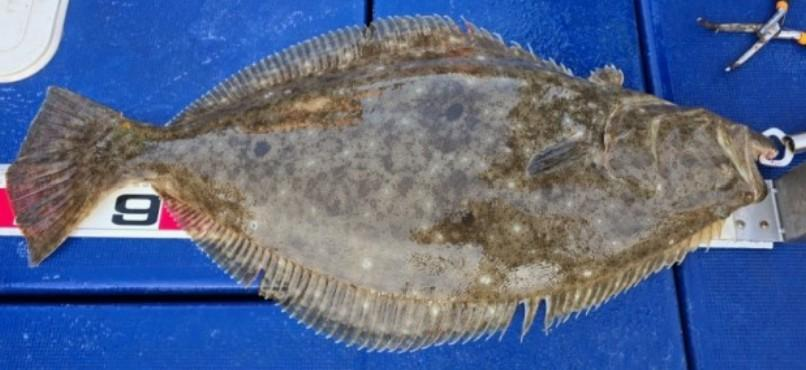fish: (4, 15, 788, 354)
